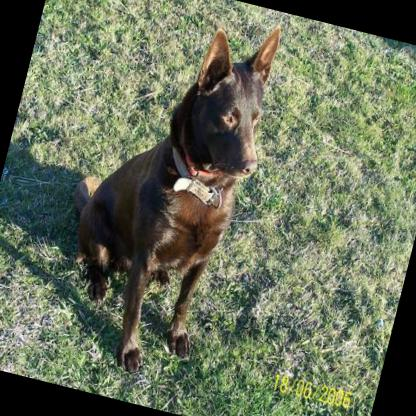kelpie: (31, 0, 293, 399)
